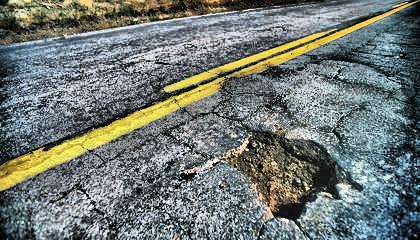pothole: (223, 128, 359, 227)
